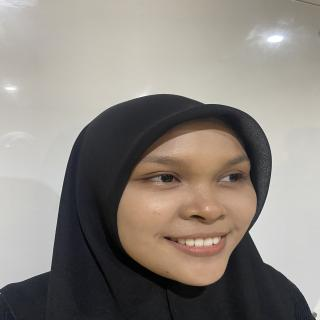Senang: (108, 114, 272, 291)
